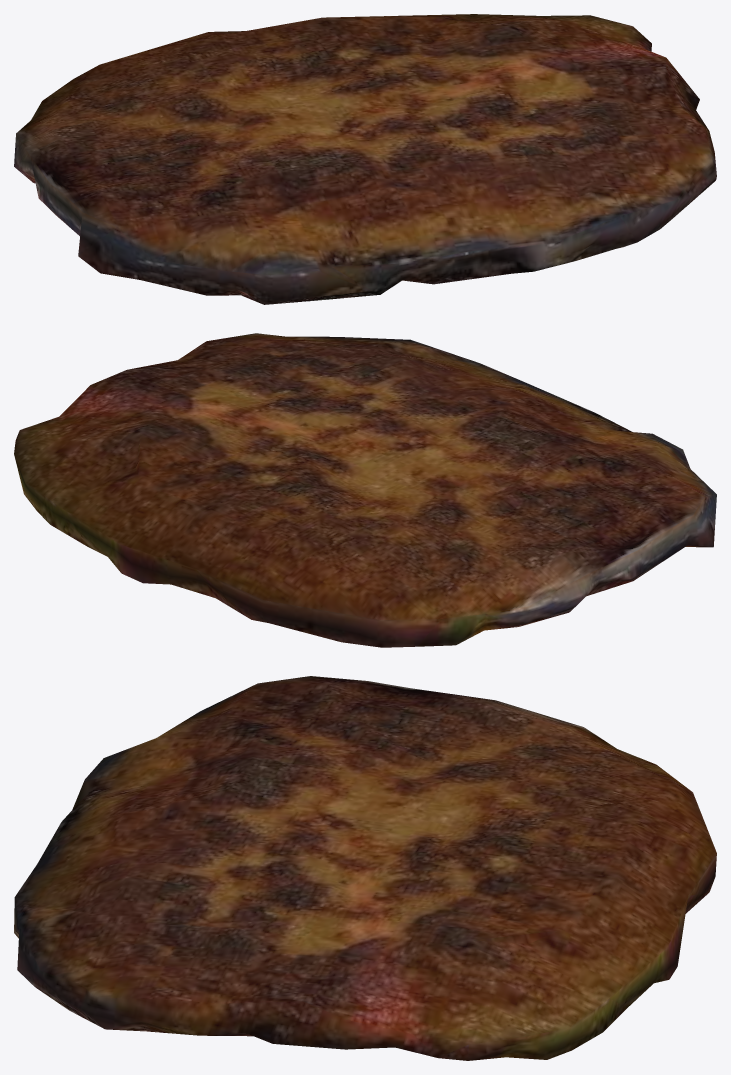
The model's file is patty.glb.
The picture shows the model from 3 angles, top to bottom: view 1: azimuth 30°, elevation 25°; view 2: azimuth 150°, elevation 25°; view 3: azimuth 270°, elevation 25°; orthographic projection. The views are drawn at different scales.
Visible parts, largest first — view 1: patty; view 2: patty; view 3: patty.
Part boxes in pixels (left/top/right/bottom): patty: left=14, top=14, right=716, bottom=304; patty: left=14, top=333, right=716, bottom=647; patty: left=14, top=676, right=716, bottom=1060.
Bounding box in the file's own units: 9.72 × 1.14 × 7.97.
1 material, 1 textured.
